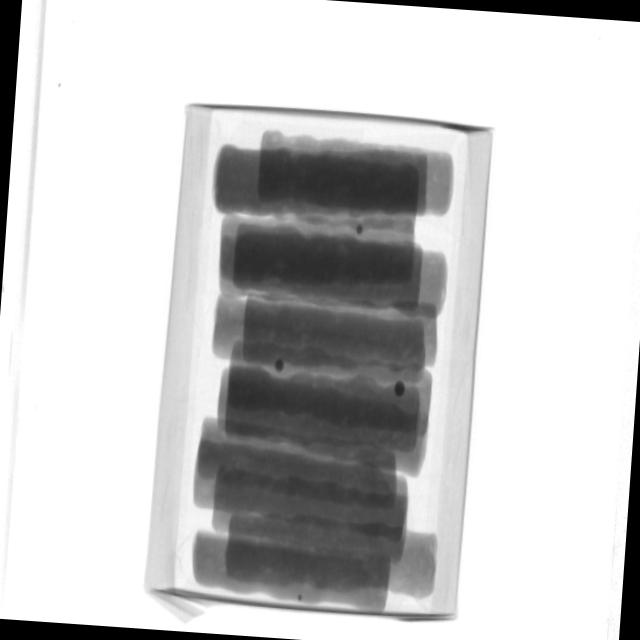ym: (394, 382, 406, 398), (275, 357, 286, 372), (356, 224, 364, 235), (297, 595, 304, 602)
